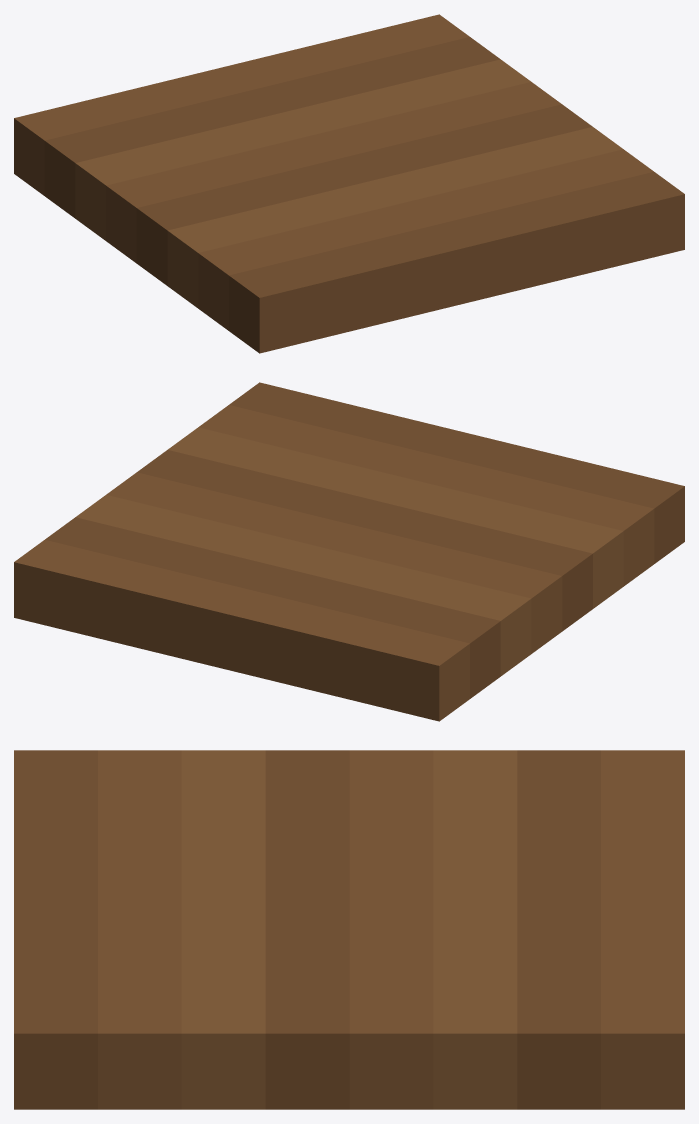
File: piece_floor_voxel.fbx
3 views of the same model, one above another, from view 1: azimuth 30°, elevation 25°; view 2: azimuth 150°, elevation 25°; view 3: azimuth 270°, elevation 25° (orthographic). The views are drawn at different scales.
Visible parts, largest first — view 1: piece_floor_voxel; view 2: piece_floor_voxel; view 3: piece_floor_voxel.
Boxes of the visible parts, box(x1,y1,x2,y2) form: piece_floor_voxel: box(14, 14, 684, 353); piece_floor_voxel: box(14, 382, 684, 721); piece_floor_voxel: box(14, 750, 684, 1109).
Size of the model in its own units: 2 by 0.25 by 2.
